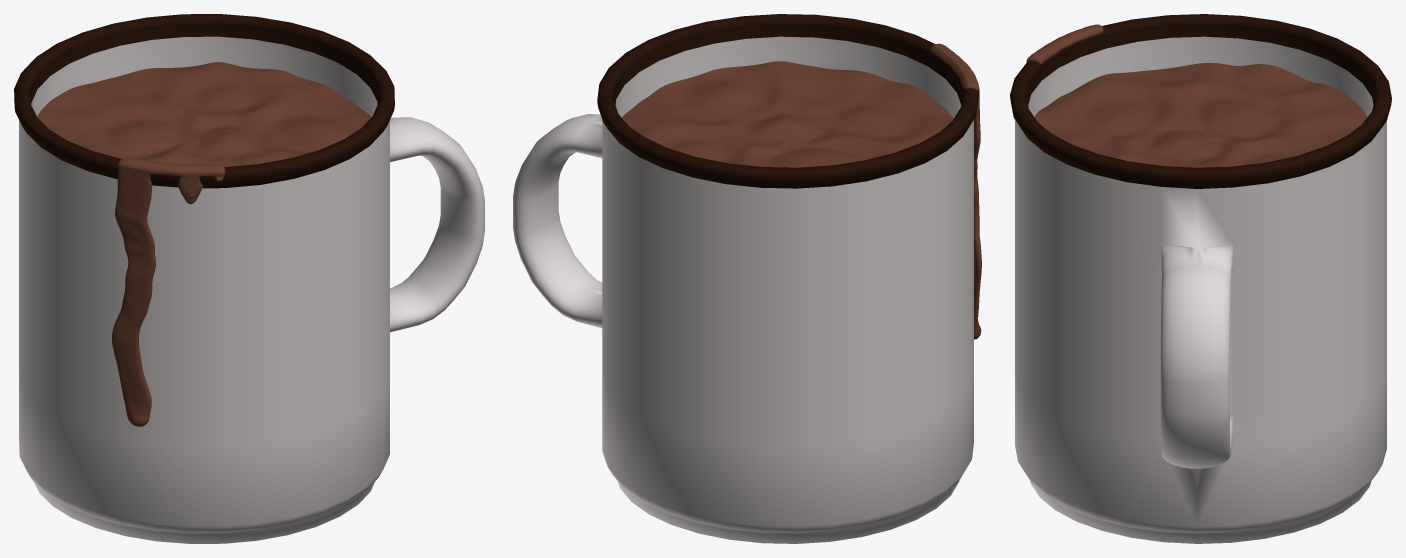
Rendered from hot chocolate.glb.
3 renders of one model, left to right at view 1: azimuth 30°, elevation 25°; view 2: azimuth 150°, elevation 25°; view 3: azimuth 270°, elevation 25°, orthographic.
Parts seen in each view (by area): view 1: Mug_2, Choco_3, Rim_1, Drip_4; view 2: Mug_2, Choco_3, Rim_1, Drip_4; view 3: Mug_2, Choco_3, Rim_1, Drip_4.
Boxes of the visible parts, x1,y1,x2,y2 form: Mug_2: [19, 36, 484, 543]; Choco_3: [37, 62, 371, 166]; Rim_1: [14, 14, 394, 188]; Drip_4: [112, 157, 225, 426]; Mug_2: [513, 36, 973, 543]; Choco_3: [622, 61, 953, 167]; Rim_1: [597, 14, 978, 188]; Drip_4: [930, 43, 981, 339]; Mug_2: [1015, 36, 1386, 543]; Choco_3: [1034, 62, 1367, 167]; Rim_1: [1010, 14, 1391, 188]; Drip_4: [1026, 24, 1103, 63].
Size of what is drawn, in the model's own units: 0.0928 by 0.0781 by 0.0706.
